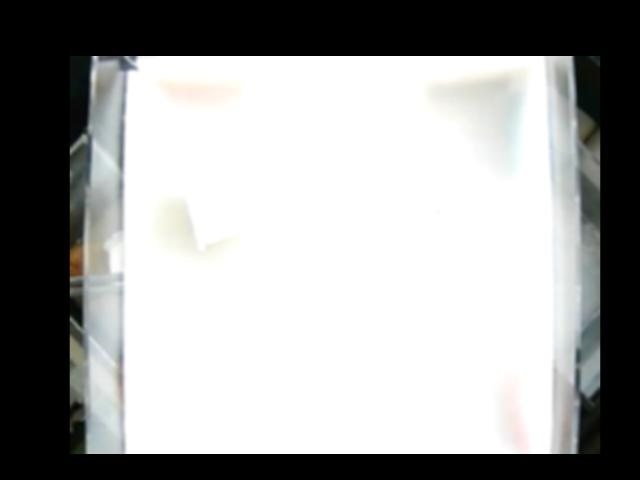Cup: (179, 156, 278, 250)
